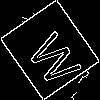W: (25, 25, 91, 89)
